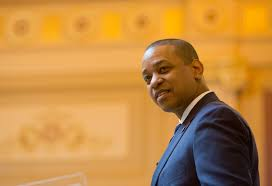s.black: (168, 76, 194, 99)
